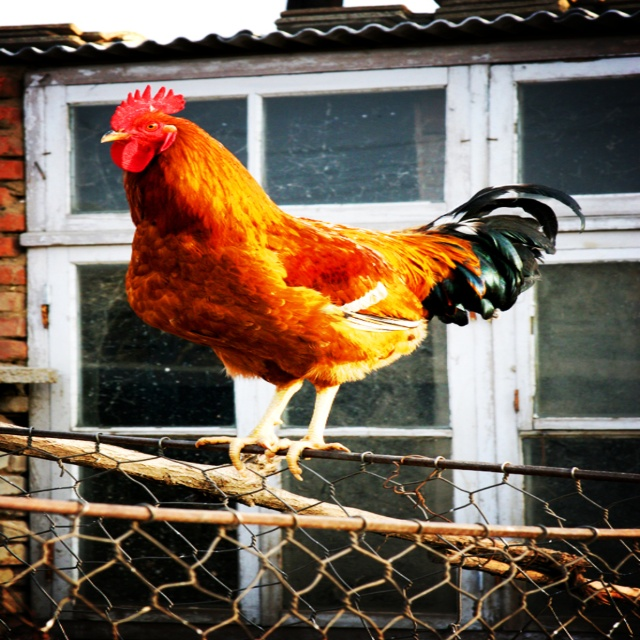Chicken: (100, 82, 577, 473)
